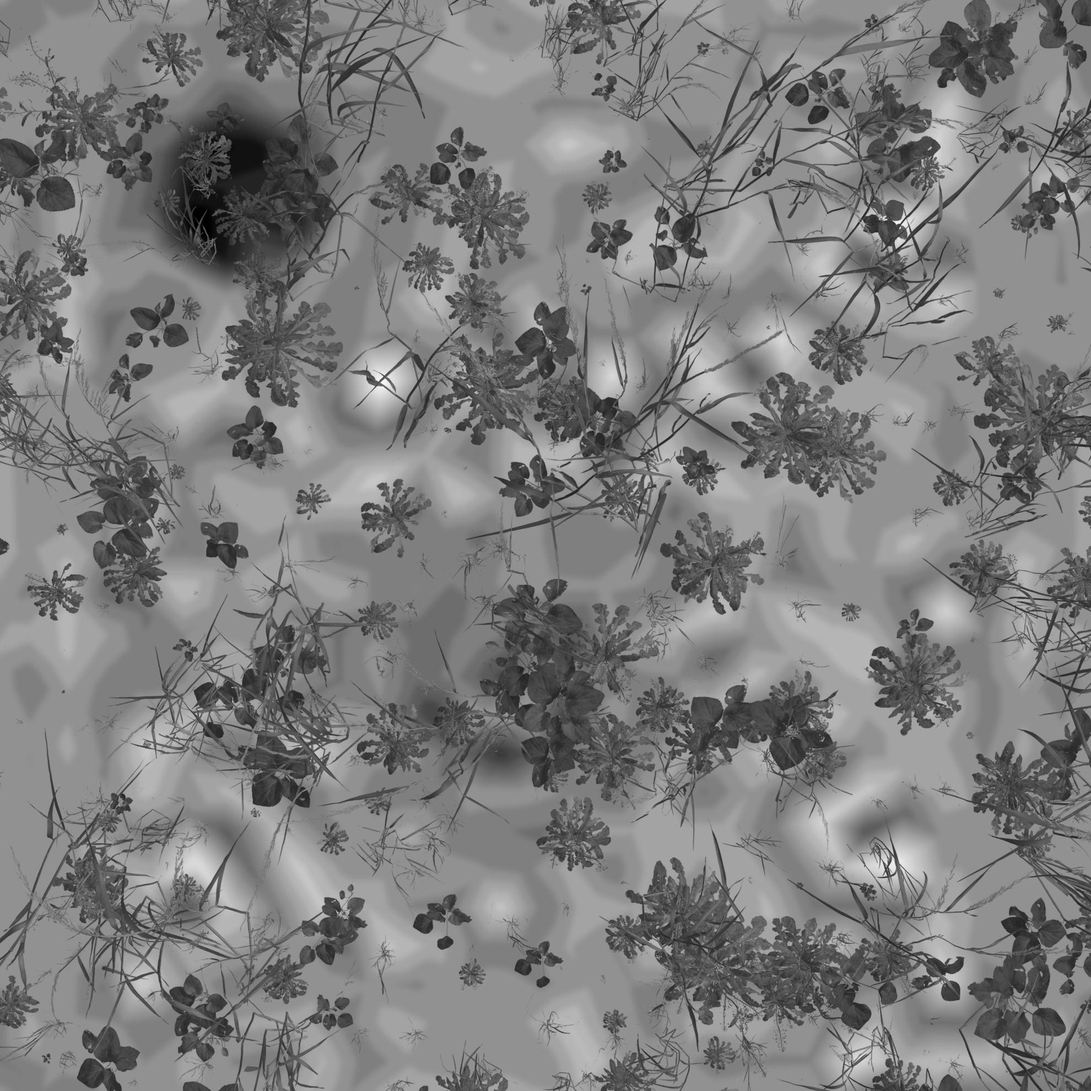landmine: (150, 111, 320, 270)
